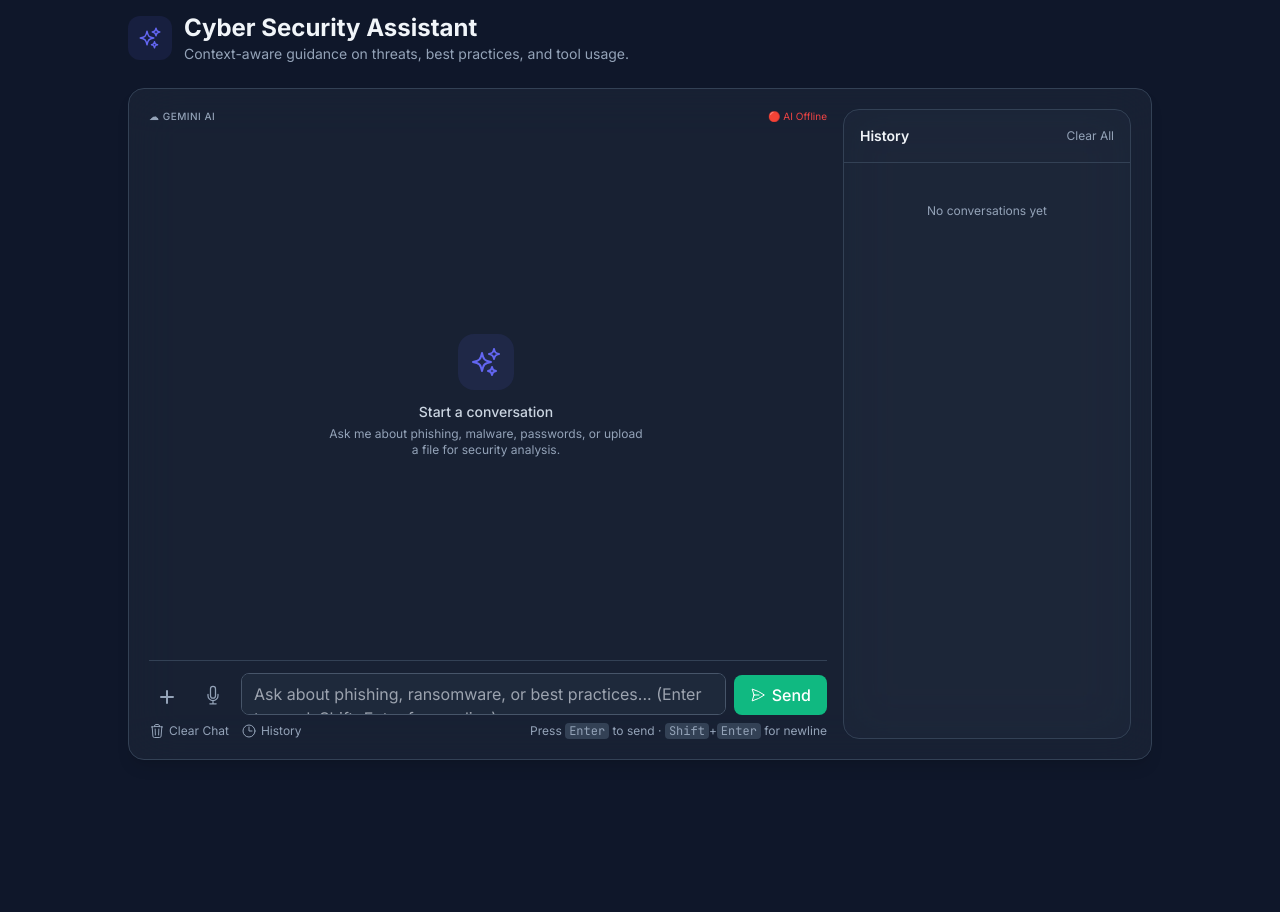
it: AI Chatbot › shows loading state while waiting for AI response
This screenshot has width=1280, height=912.
In the text box with placeholder "Ask about phishing": (483,694) [241, 673, 726, 715], type "Test"
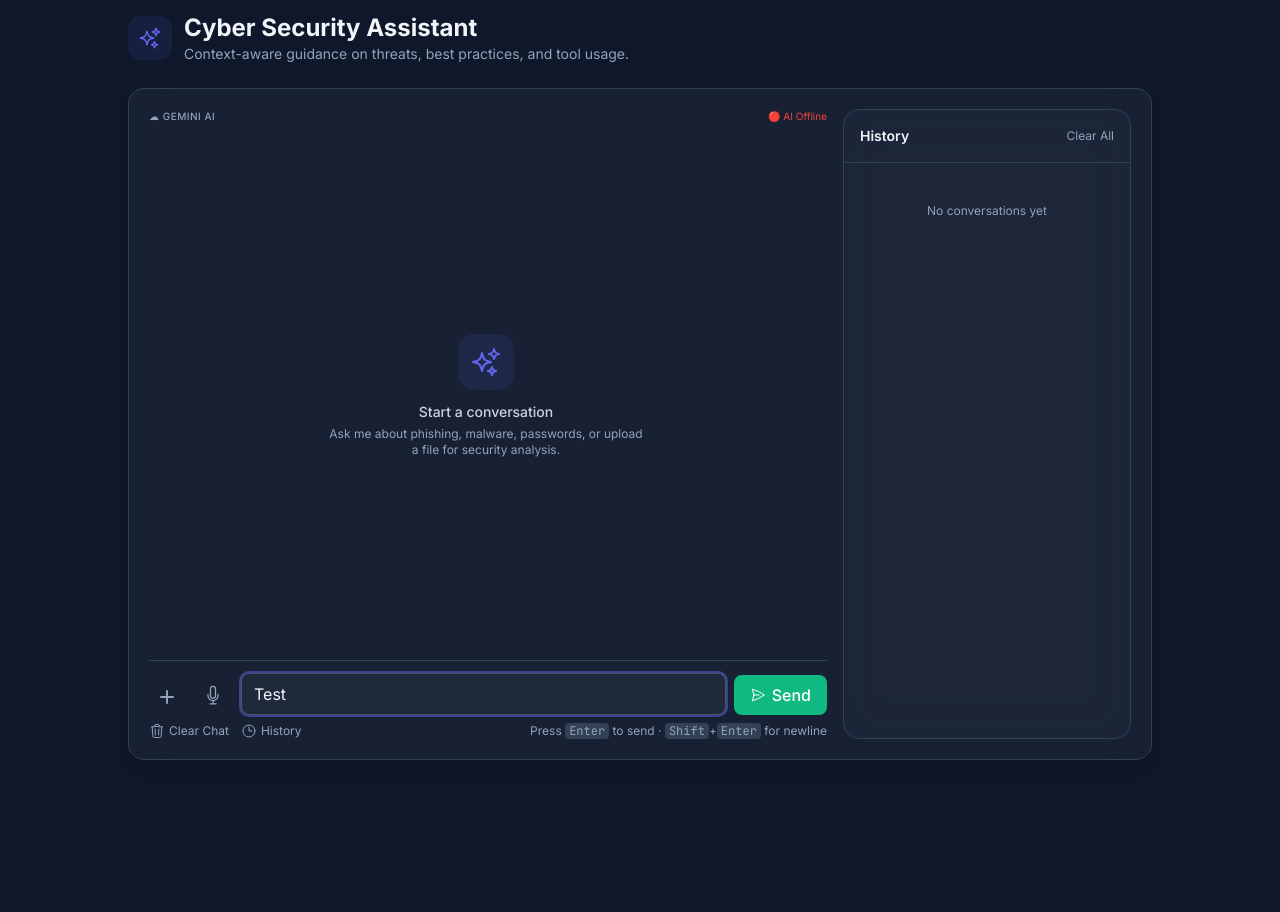
Click the button "Send": (780,695) [734, 675, 827, 715]
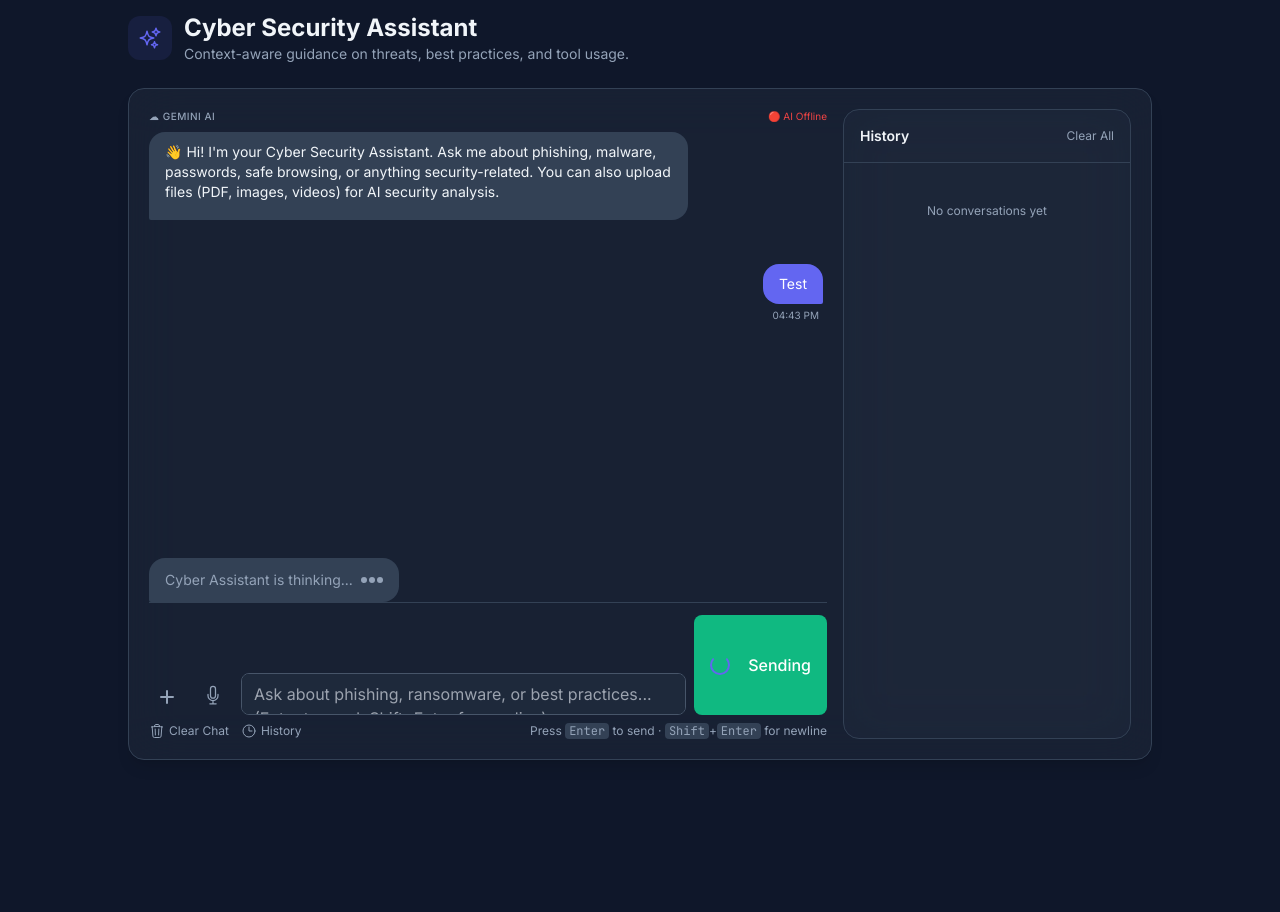
Check: the text "Cyber Assistant is thinking..." is shown, box [165, 570, 353, 590]
